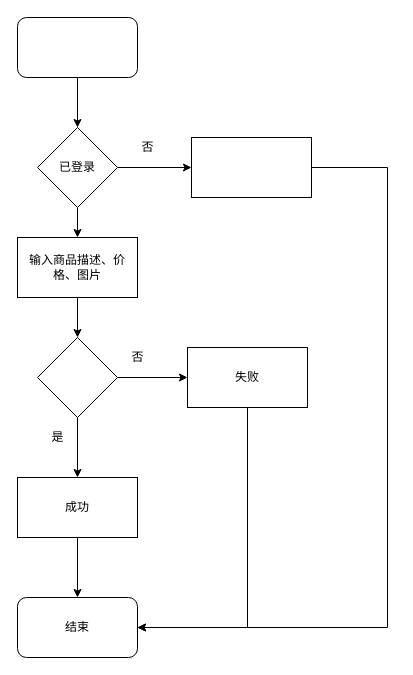
This 413x675 diagram has some shape labels left out. Here are the shapes that lost their labels. From the top down, the centre of each, then its label:
At point (77, 47): "开始".
At point (251, 167): "无法上传".
At point (77, 377): "输入有效？".
